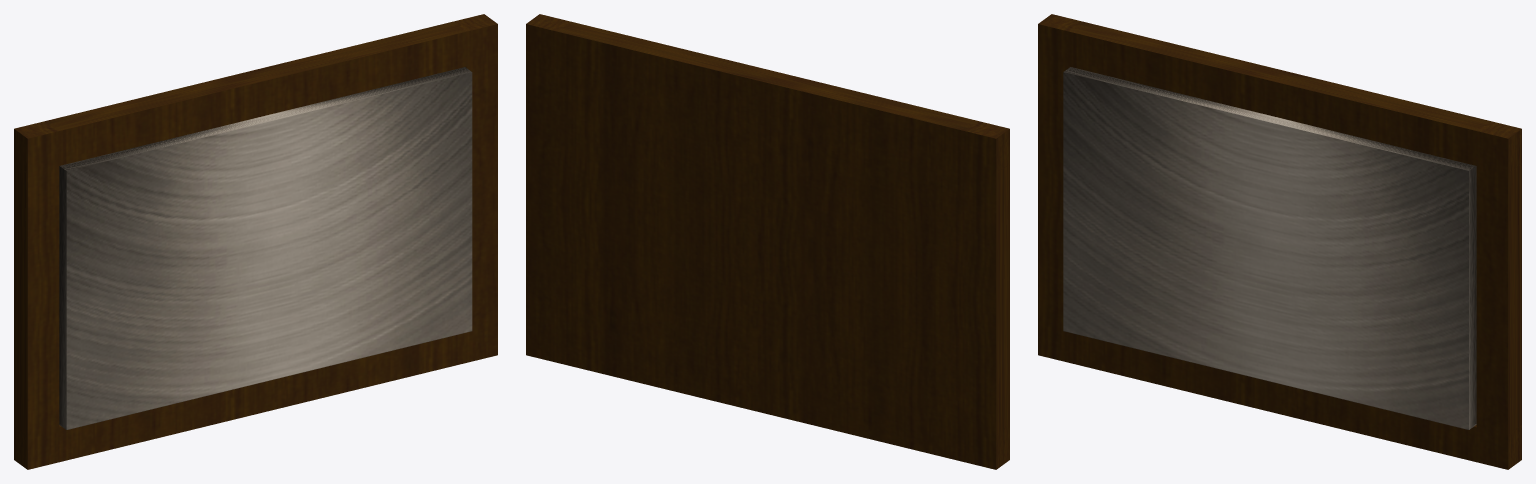
Rendered from brozeplank.fbx.
The picture shows the model from 3 angles, left to right: view 1: azimuth 30°, elevation 25°; view 2: azimuth 150°, elevation 25°; view 3: azimuth 330°, elevation 25°; orthographic projection.
Visible parts, largest first — view 1: displayed, plank; view 2: plank; view 3: displayed, plank.
Boxes of the visible parts, <box> form: displayed: <box>59,67,472,429</box>; plank: <box>14,14,497,469</box>; plank: <box>526,14,1009,469</box>; displayed: <box>1063,67,1476,429</box>; plank: <box>1038,14,1521,469</box>.
Size of the model in its own units: 1 by 0.6731 by 0.0751.
